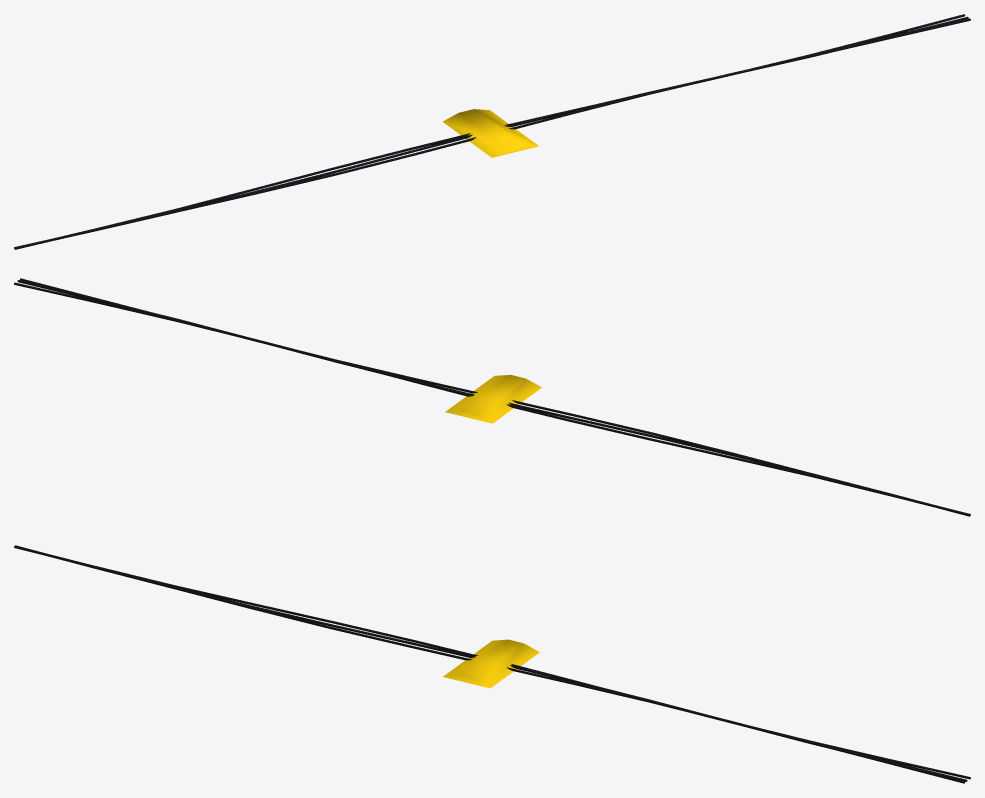
File: cable_run.glb
3 views of the same model, one above another, from view 1: azimuth 30°, elevation 25°; view 2: azimuth 150°, elevation 25°; view 3: azimuth 330°, elevation 25° (orthographic).
Parts seen in each view (by area): view 1: cable_run.001; view 2: cable_run.001; view 3: cable_run.001.
Boxes of the visible parts, x1,y1,x2,y2 form: cable_run.001: (14,14,970,249); cable_run.001: (14,278,970,516); cable_run.001: (14,545,970,783).
Bounding box in the file's own units: 10 × 0.05 × 0.9.
